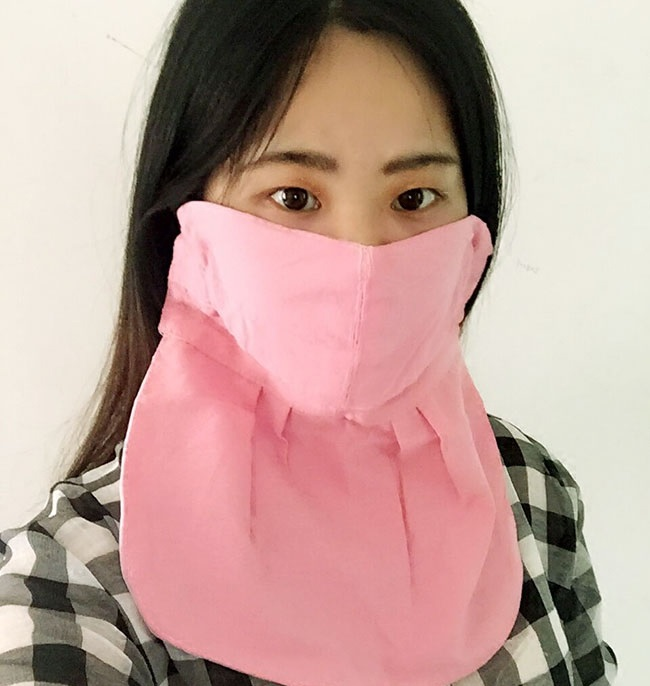face_mask: (201, 35, 467, 413)
